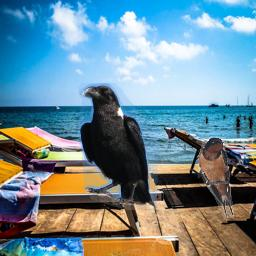Crow: (78, 83, 158, 210)
Swallow: (198, 137, 234, 218)
